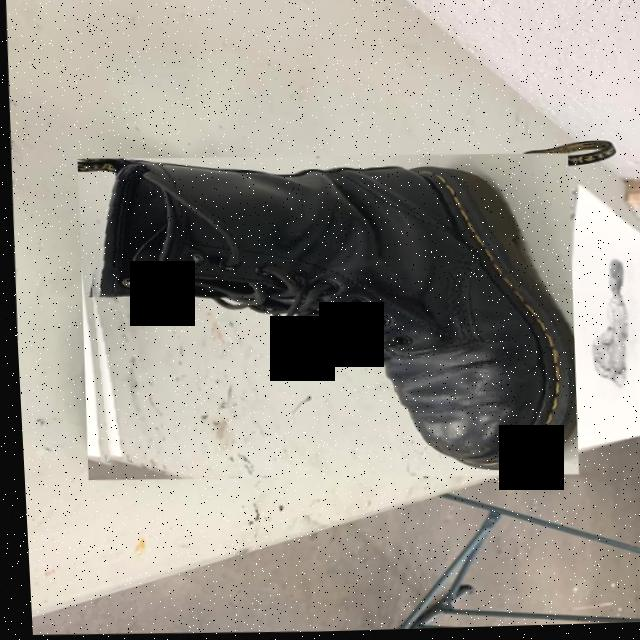shoe: (70, 147, 579, 489)
